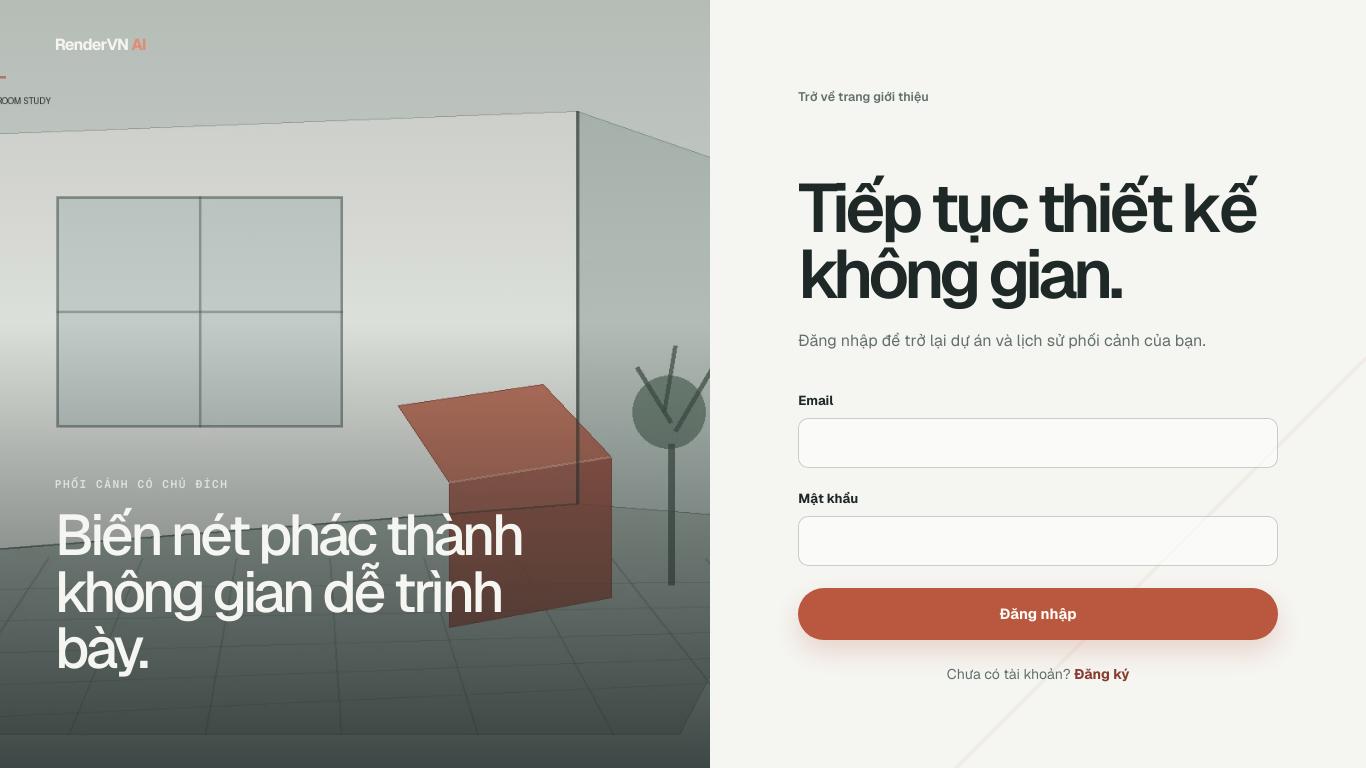
Scenario: AuthForm › rejects an invalid email before login
Type "khong-phai-email" into the field labelled "Email" at {"x": 1038, "y": 443}, box [798,418,1278,468]
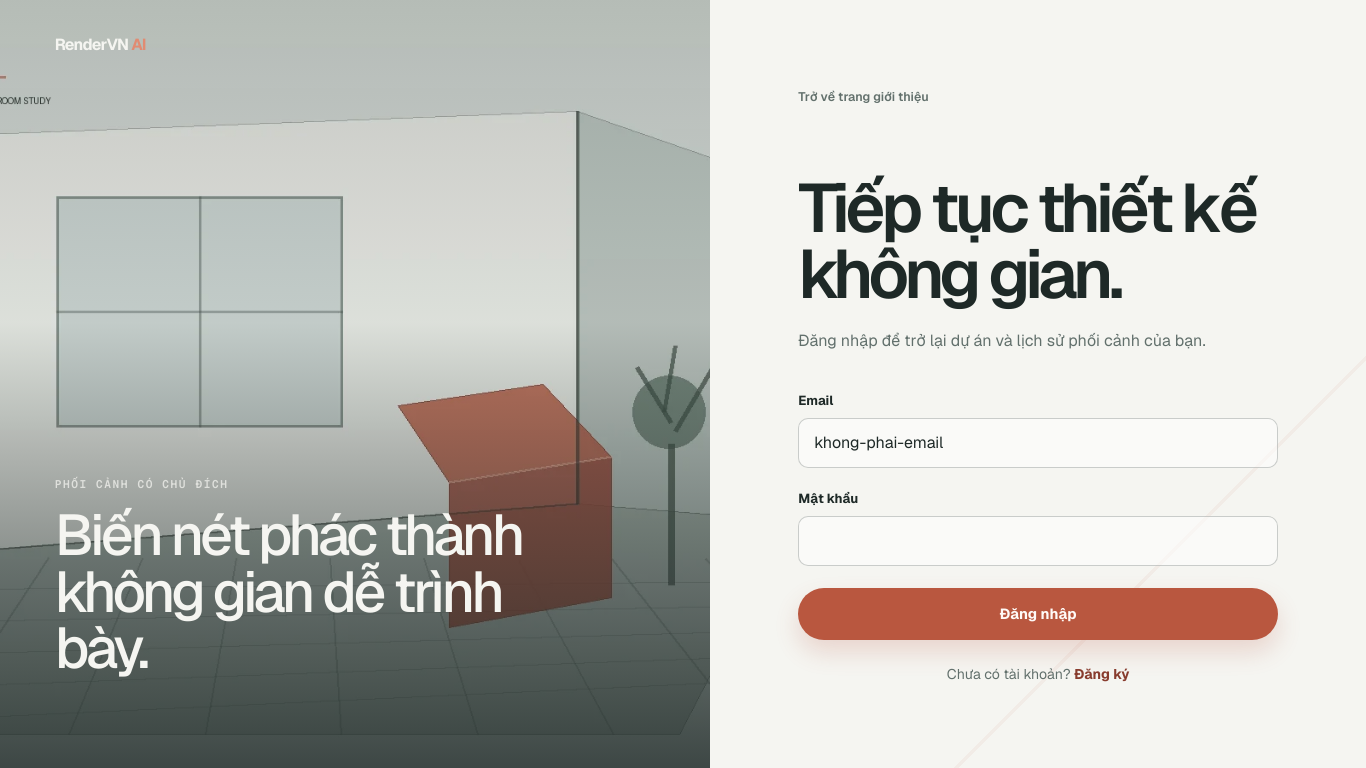
Type "StrongPass123!" into the password field labelled "Mật khẩu" at {"x": 1038, "y": 541}, box [798,516,1278,566]
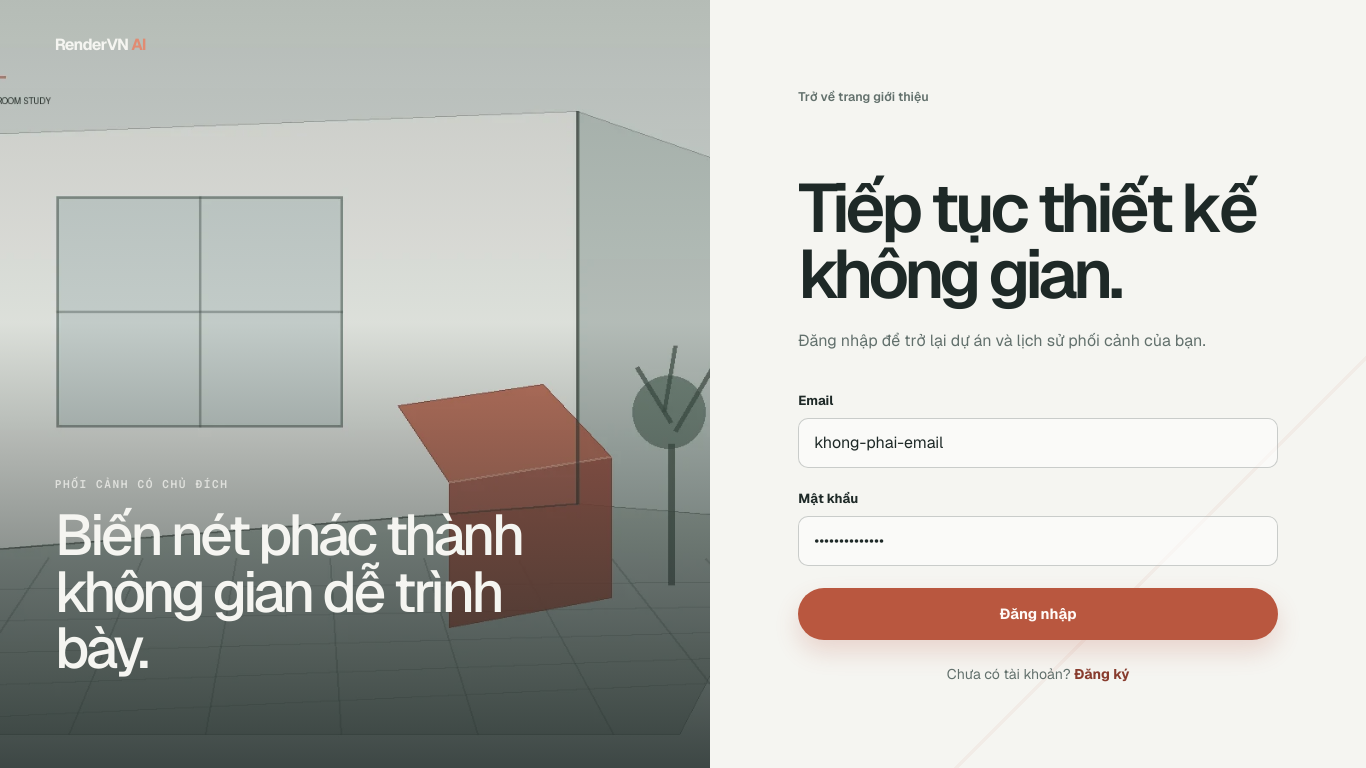
Click the button "Đăng nhập" at {"x": 1038, "y": 614}, box [798,588,1278,640]
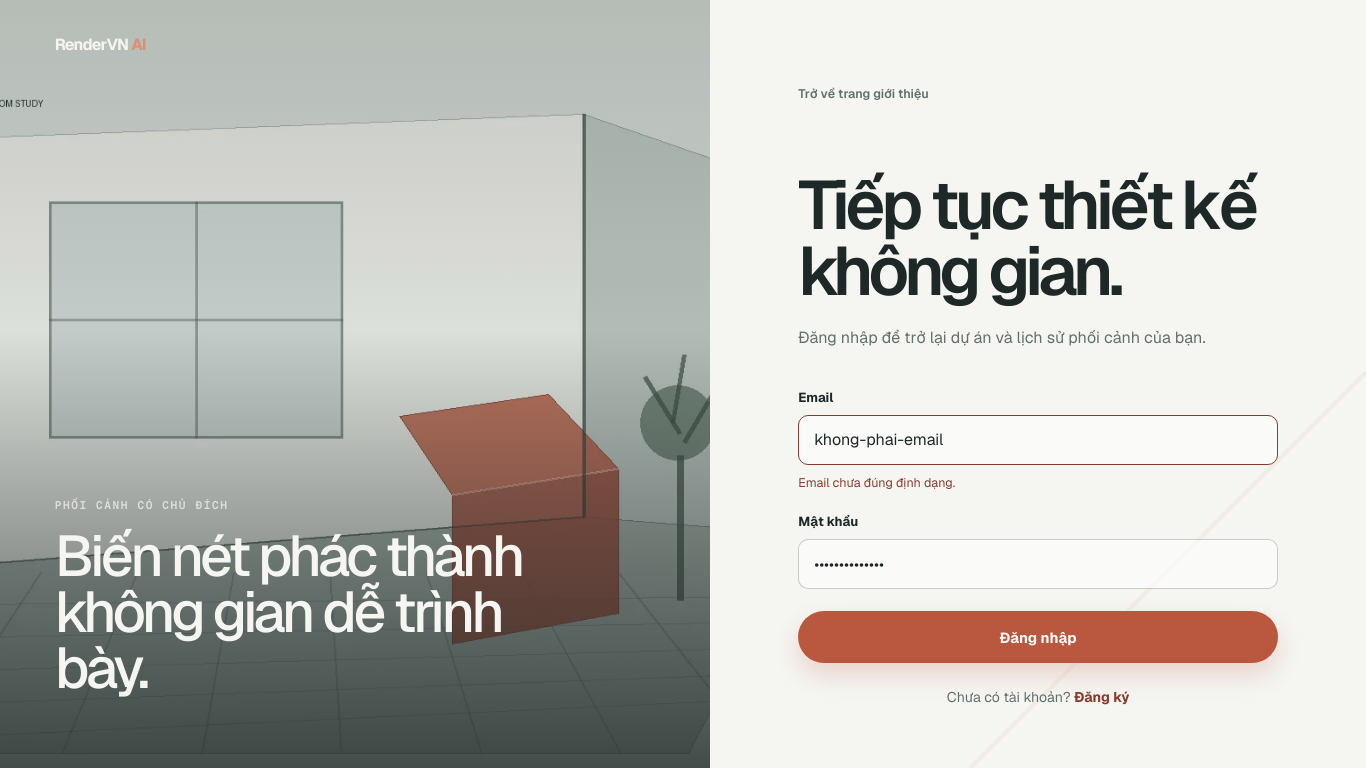
Check: the text "Email chưa đúng định dạng." is shown, box [798,474,955,491]
